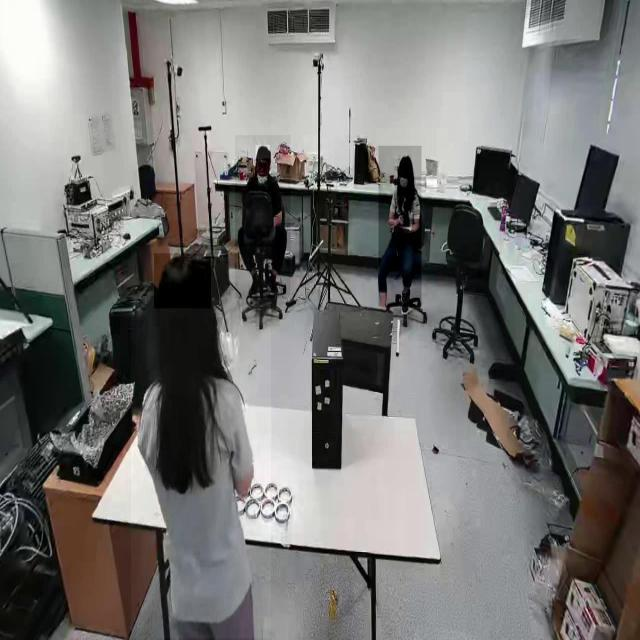face_mask: (397, 166, 412, 196)
face_nomask: (255, 159, 269, 177)
hand_noglove: (396, 212, 404, 225)
head_nohelmet: (154, 253, 212, 310), (256, 145, 270, 159), (398, 155, 412, 167)
person: (131, 246, 271, 639), (235, 135, 291, 299), (378, 146, 422, 308)
shoes: (264, 270, 282, 298), (399, 285, 413, 321), (247, 271, 263, 298)
